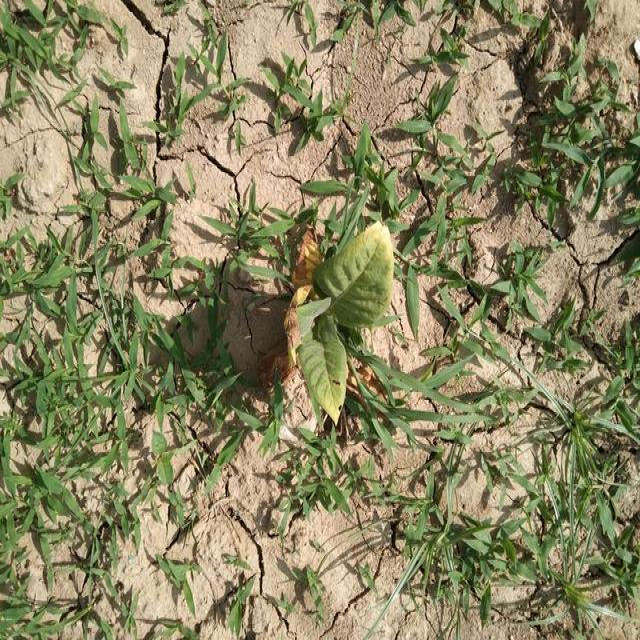crop: (284, 211, 402, 431)
